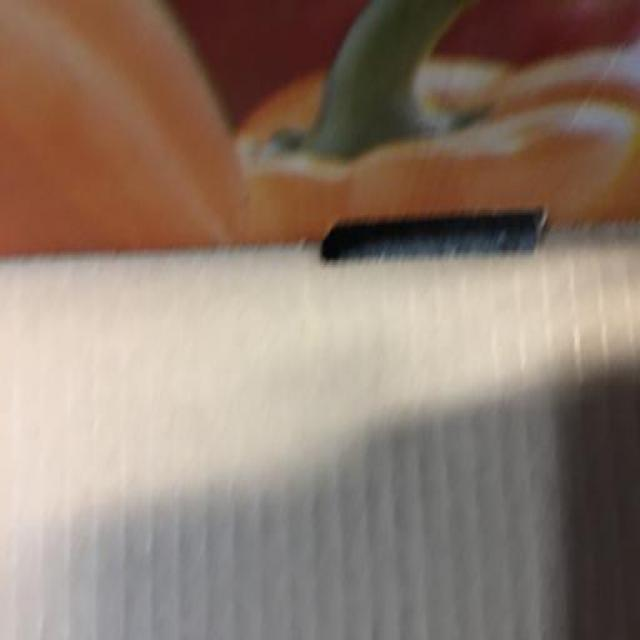cardboard: (3, 197, 640, 640)
